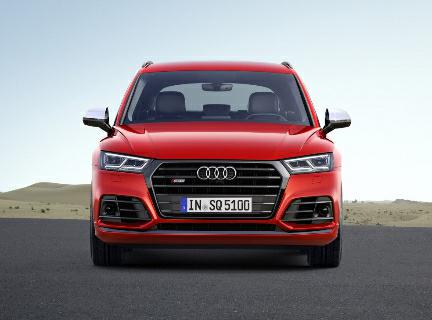奥迪-SQ5: (73, 56, 356, 269)
